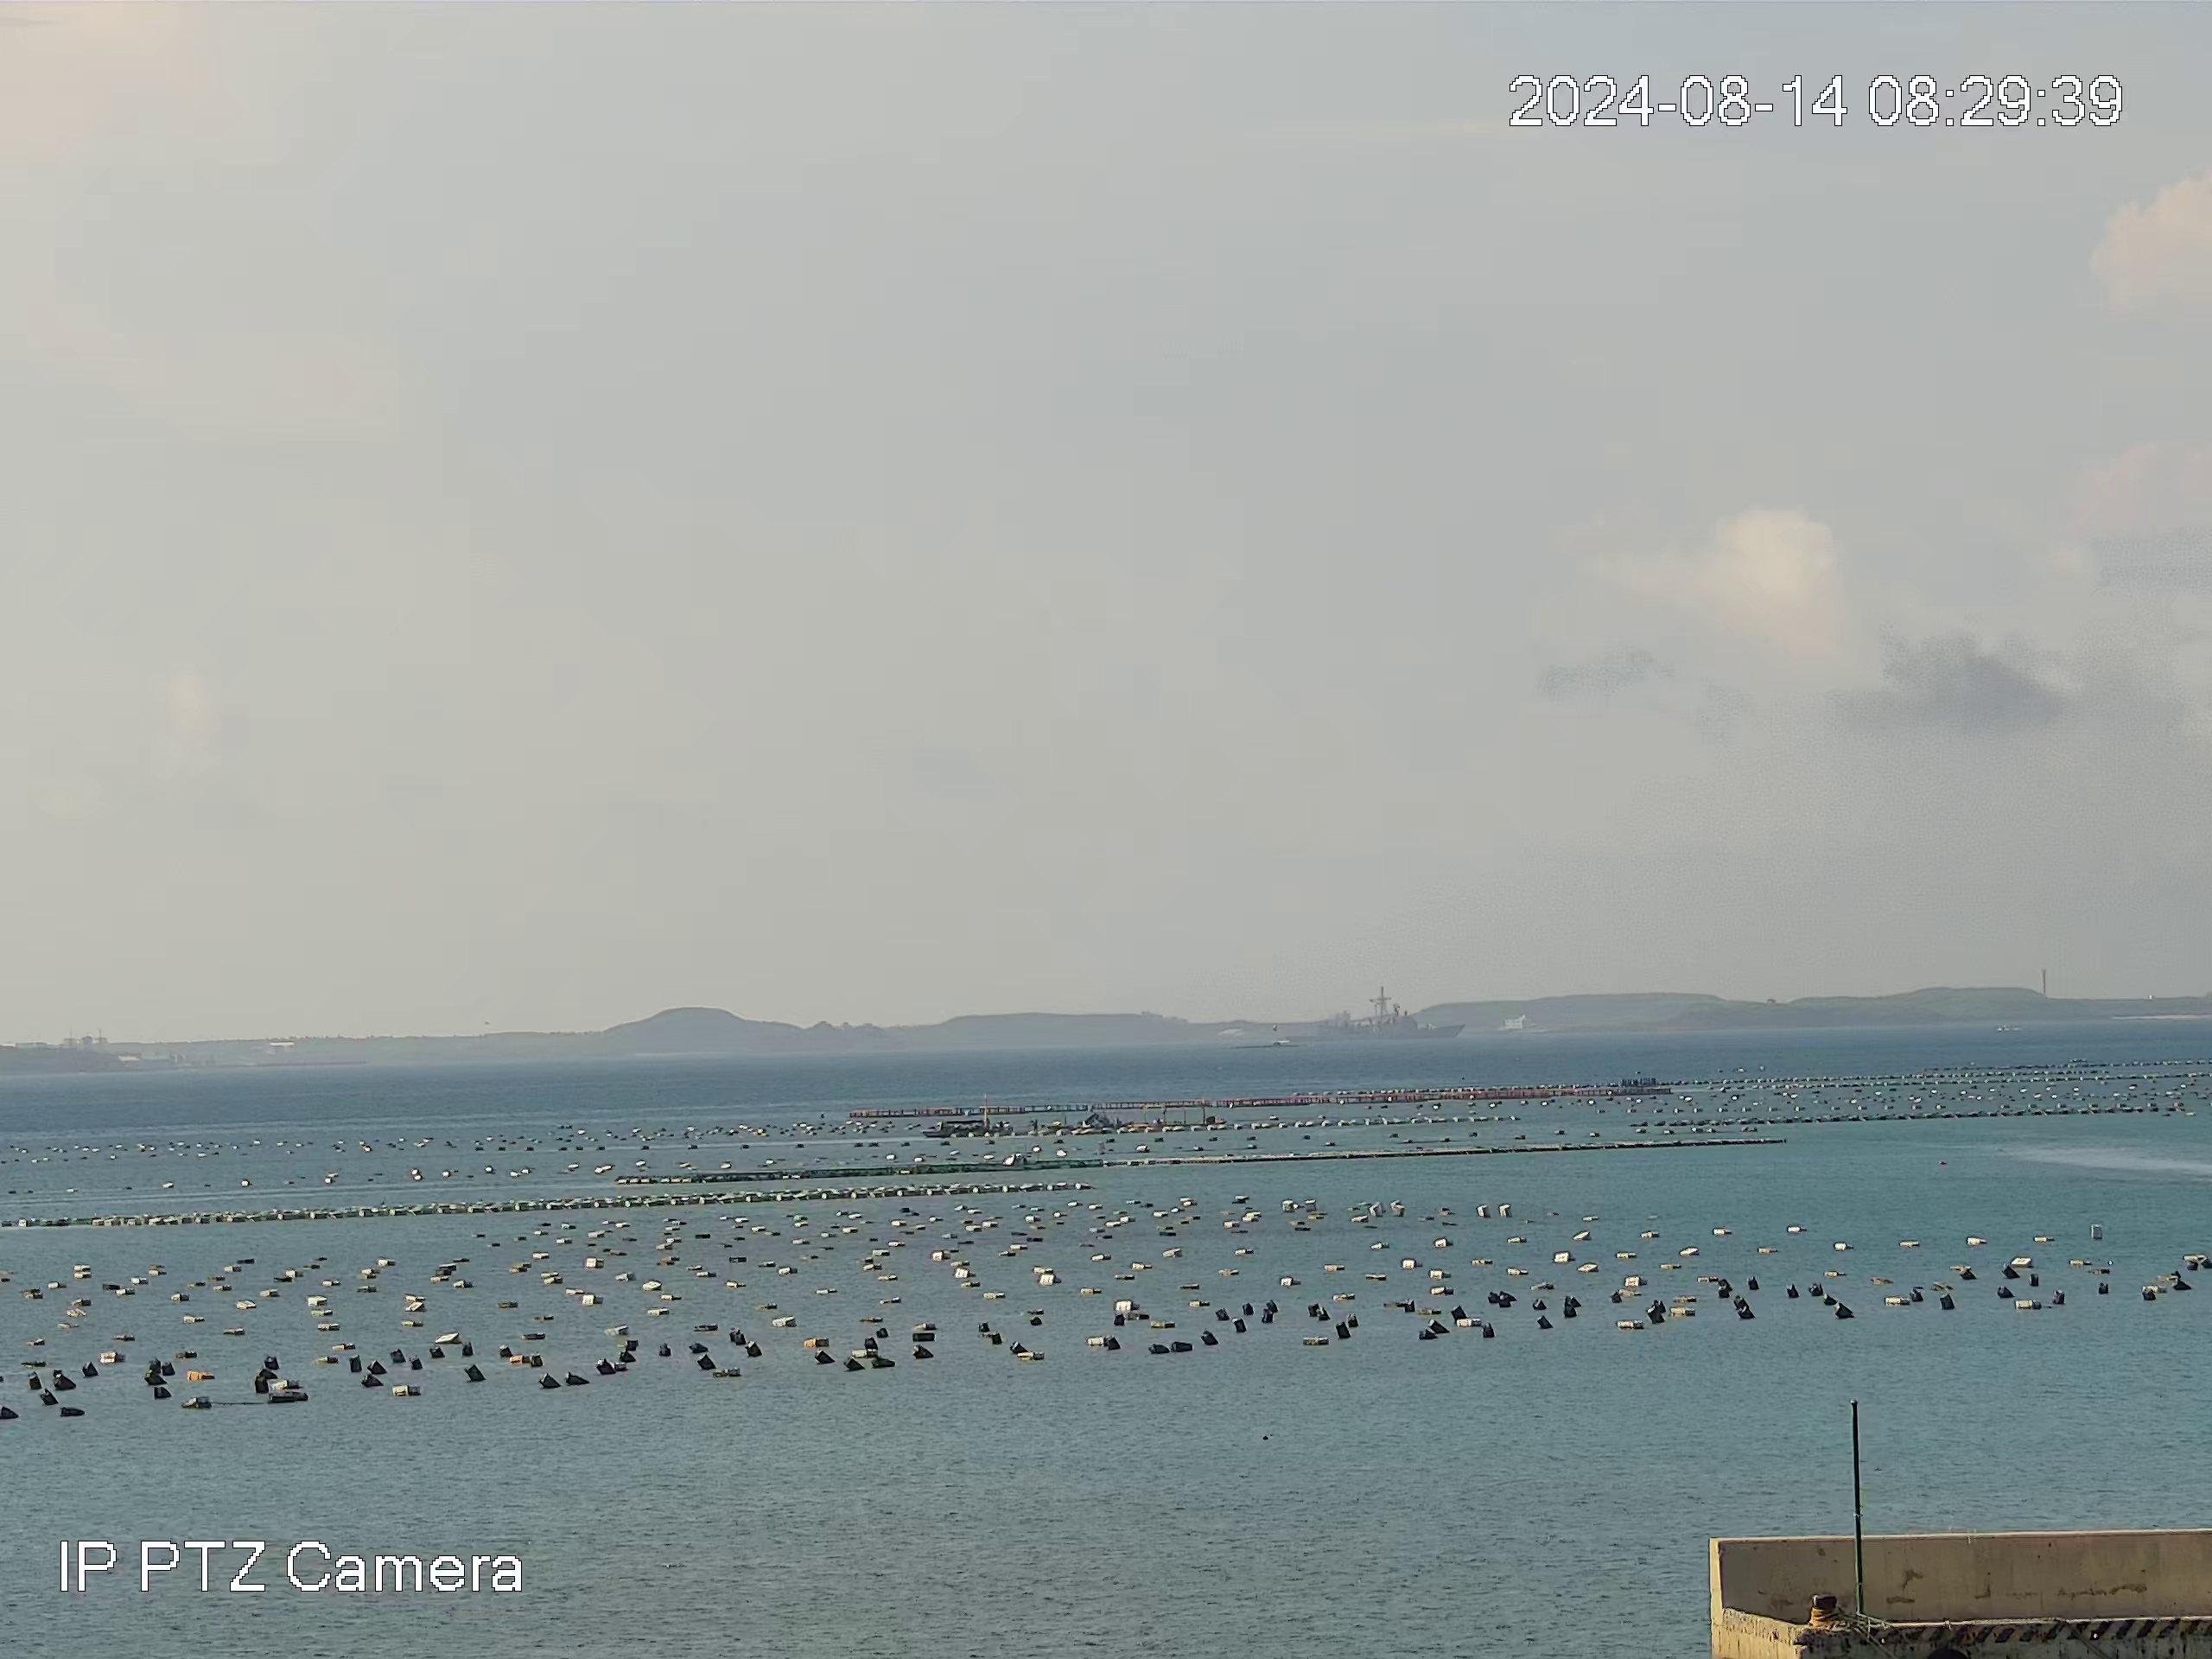boat: (921, 1115, 991, 1140)
